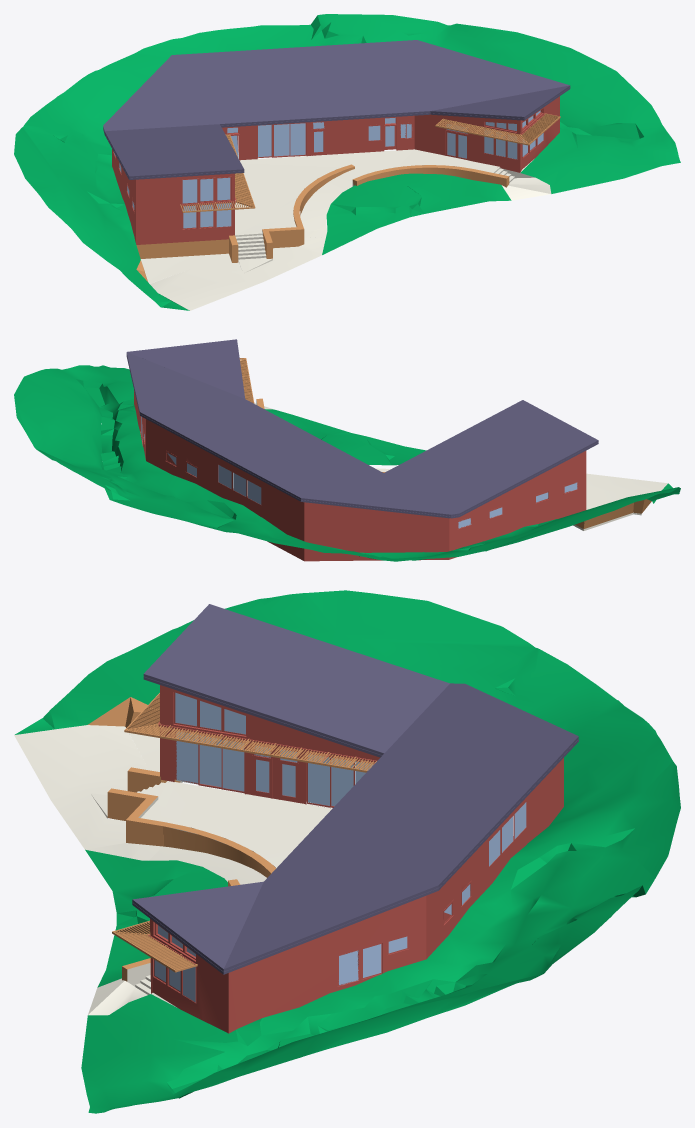
The model's file is BothinHub_01.glb.
3 views of the same model, one above another, from view 1: azimuth 30°, elevation 25°; view 2: azimuth 150°, elevation 25°; view 3: azimuth 270°, elevation 25° (orthographic). The views are drawn at different scales.
Parts seen in each view (by area): view 1: Bothin; view 2: Bothin; view 3: Bothin.
Part boxes in pixels (box(x1,y1,x2,y2)): Bothin: box(14, 14, 680, 310); Bothin: box(14, 339, 680, 561); Bothin: box(14, 590, 680, 1113).
Bounding box in the file's own units: 19.79 × 2.85 × 12.69.
